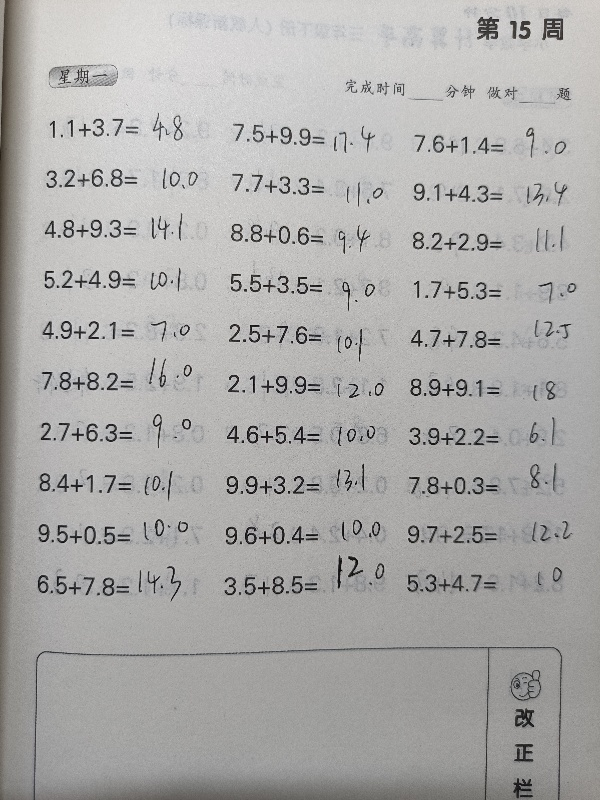equation: (29, 558, 209, 610), (216, 553, 396, 605), (31, 463, 211, 509), (219, 316, 399, 358), (224, 117, 404, 159), (216, 514, 396, 551), (400, 469, 580, 506), (218, 418, 398, 454), (219, 367, 399, 403), (29, 517, 209, 552), (401, 418, 581, 453), (221, 266, 401, 301), (36, 262, 216, 297), (37, 160, 217, 195), (399, 566, 579, 600), (399, 517, 579, 551), (218, 468, 398, 502), (31, 415, 211, 449), (402, 371, 582, 405), (34, 364, 214, 398), (34, 313, 214, 347), (403, 224, 583, 258), (221, 217, 401, 251), (37, 212, 217, 246), (223, 167, 403, 201), (40, 111, 220, 145), (401, 322, 581, 355), (405, 273, 585, 306), (404, 176, 584, 209), (406, 128, 586, 161)
